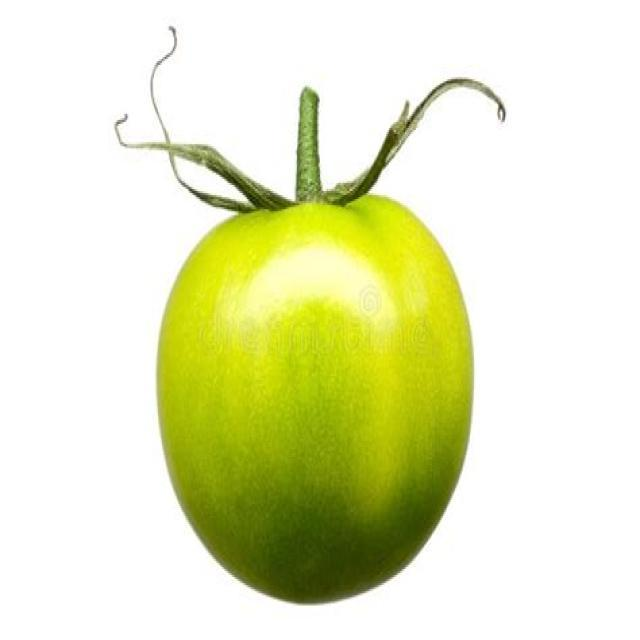Tomato: (154, 80, 495, 608)
